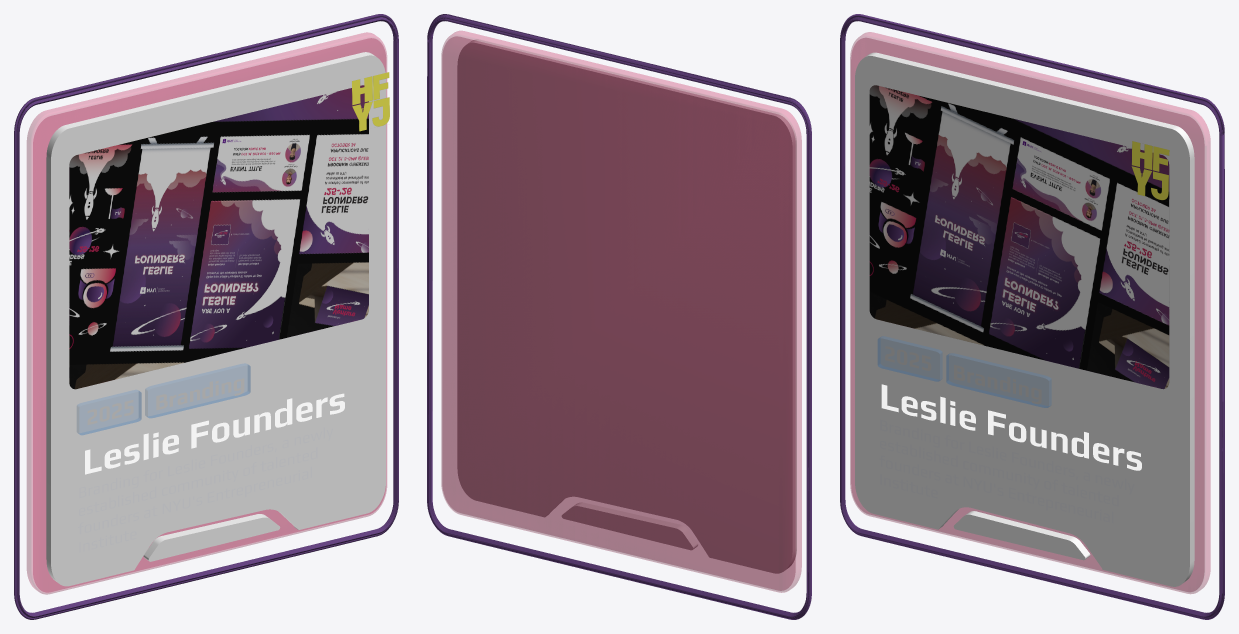
Rendered from leslie.glb.
The picture shows the model from 3 angles, left to right: view 1: azimuth 30°, elevation 25°; view 2: azimuth 150°, elevation 25°; view 3: azimuth 330°, elevation 25°; orthographic projection.
Parts seen in each view (by area): view 1: Boolean, ra sm.jpg, Rectangle, Rectangle 6, Text.003, Text, Shape, Plane.001, Plane, Logo V1.png, Text.002; view 2: Rectangle, Boolean, Rectangle 6, Shape; view 3: Boolean, ra sm.jpg, Rectangle, Rectangle 6, Text.003, Text, Shape, Plane.001, Plane, Logo V1.png, Text.002.
Part boxes in pixels (box(x1,y1,x2,y2)): Boolean: box(46, 52, 385, 586); ra sm.jpg: box(69, 85, 368, 389); Rectangle: box(27, 32, 386, 594); Rectangle 6: box(14, 14, 398, 619); Text.003: box(78, 427, 332, 552); Text: box(85, 393, 344, 474); Shape: box(143, 514, 280, 561); Plane.001: box(145, 364, 250, 417); Plane: box(77, 390, 141, 434); Logo V1.png: box(352, 72, 389, 131); Text.002: box(156, 378, 244, 410); Rectangle: box(441, 31, 801, 592); Boolean: box(457, 39, 796, 573); Rectangle 6: box(427, 14, 811, 619); Shape: box(561, 502, 697, 550); Boolean: box(855, 52, 1194, 586); ra sm.jpg: box(869, 85, 1169, 389); Rectangle: box(850, 32, 1210, 593); Rectangle 6: box(840, 14, 1224, 619); Text.003: box(879, 420, 1134, 522); Text: box(881, 384, 1141, 470); Shape: box(953, 511, 1090, 560); Plane.001: box(946, 353, 1050, 407); Plane: box(878, 336, 941, 381); Logo V1.png: box(1131, 141, 1169, 200); Text.002: box(954, 364, 1041, 404).
Bounding box in the file's own units: 4.27 × 5.55 × 0.4878.
Materials: 8 (2 with a texture image).
